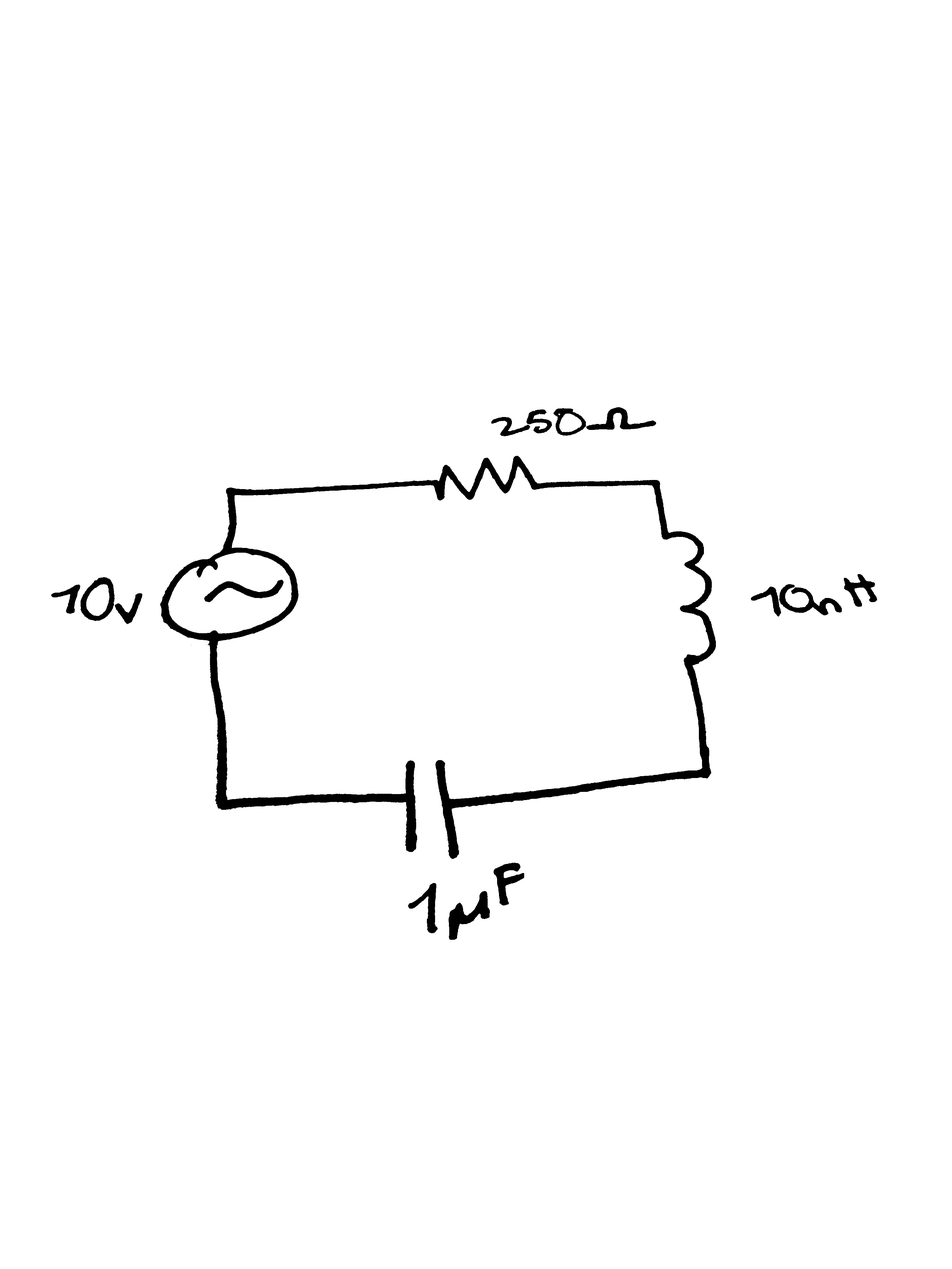capacitor.unpolarized: (389, 749, 474, 864)
inductor: (651, 529, 724, 668)
junction: (679, 751, 724, 797), (201, 785, 248, 824), (210, 473, 259, 510), (640, 471, 673, 499)
resistor: (421, 450, 549, 507)
text: (408, 862, 530, 940), (42, 572, 151, 638), (746, 569, 883, 621), (489, 401, 659, 442)
voltage.ac: (155, 547, 309, 641)
